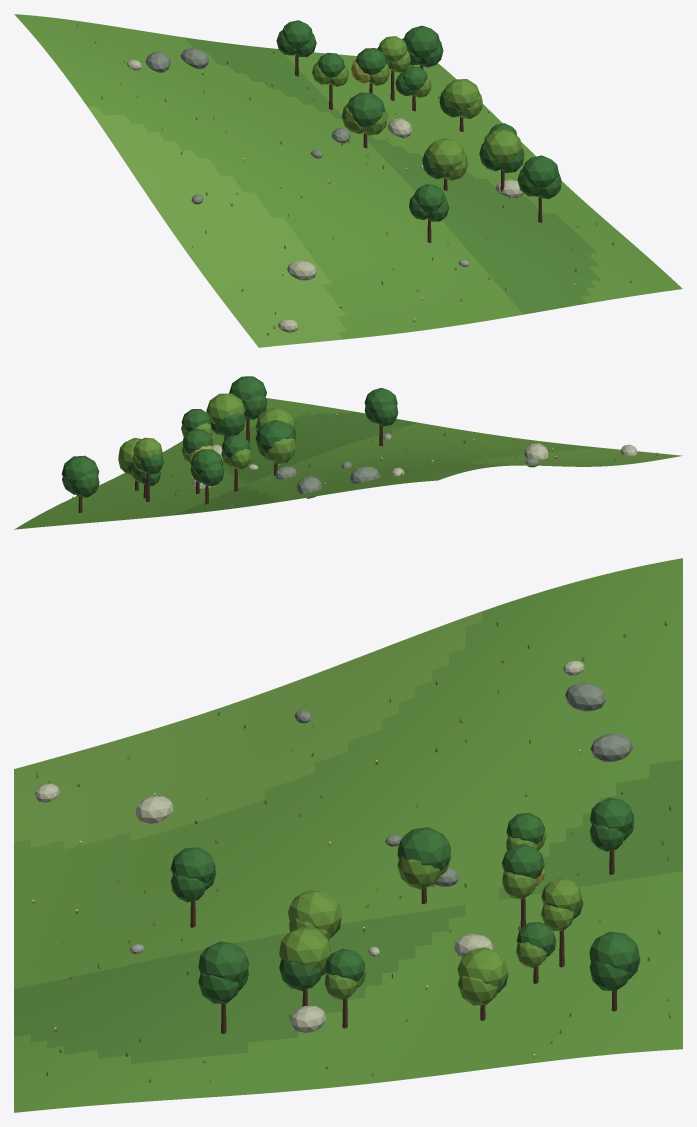
File: Chunk_X3_Y0_Z1.fbx
The picture shows the model from 3 angles, top to bottom: view 1: azimuth 30°, elevation 25°; view 2: azimuth 150°, elevation 25°; view 3: azimuth 270°, elevation 25°; orthographic projection. The views are drawn at different scales.
Parts seen in each view (by area): view 1: Terrain.046, Canopies.045, Rocks.046, Trunks.045, GroundCover.046; view 2: Terrain.046, Canopies.045, Rocks.046, Trunks.045, GroundCover.046; view 3: Terrain.046, Canopies.045, Rocks.046, Trunks.045, GroundCover.046.
Part boxes in pixels (bbox=[...]): Terrain.046: bbox=[14, 14, 682, 347]; Canopies.045: bbox=[276, 20, 561, 221]; Rocks.046: bbox=[126, 48, 523, 332]; Trunks.045: bbox=[295, 55, 542, 242]; GroundCover.046: bbox=[76, 23, 631, 335]; Terrain.046: bbox=[14, 398, 682, 529]; Canopies.045: bbox=[61, 376, 398, 497]; Rocks.046: bbox=[192, 433, 637, 498]; Trunks.045: bbox=[78, 418, 383, 512]; GroundCover.046: bbox=[46, 404, 657, 524]; Terrain.046: bbox=[14, 558, 682, 1112]; Canopies.045: bbox=[170, 797, 640, 1005]; Rocks.046: bbox=[34, 660, 633, 1032]; Trunks.045: bbox=[190, 850, 617, 1033]; GroundCover.046: bbox=[31, 621, 671, 1083].
Size of the model in its own units: 100 by 44.87 by 100.
